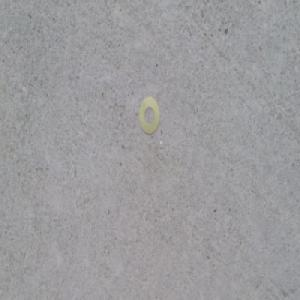Washer: (136, 95, 159, 137)
